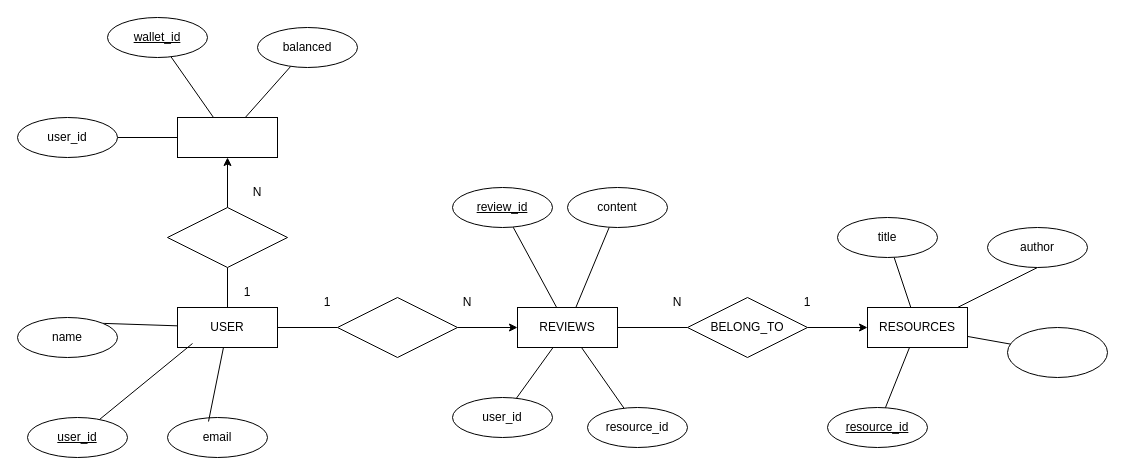
Some shapes in this 1125 by 475 pixel diagram are drawn without their labels. The centre of each missing label's shape, as x and y in pixels:
"HAVE" goes at point (227, 237).
"type" goes at point (1057, 352).
"WALLETS" goes at point (227, 137).
"WRITES" goes at point (397, 327).
